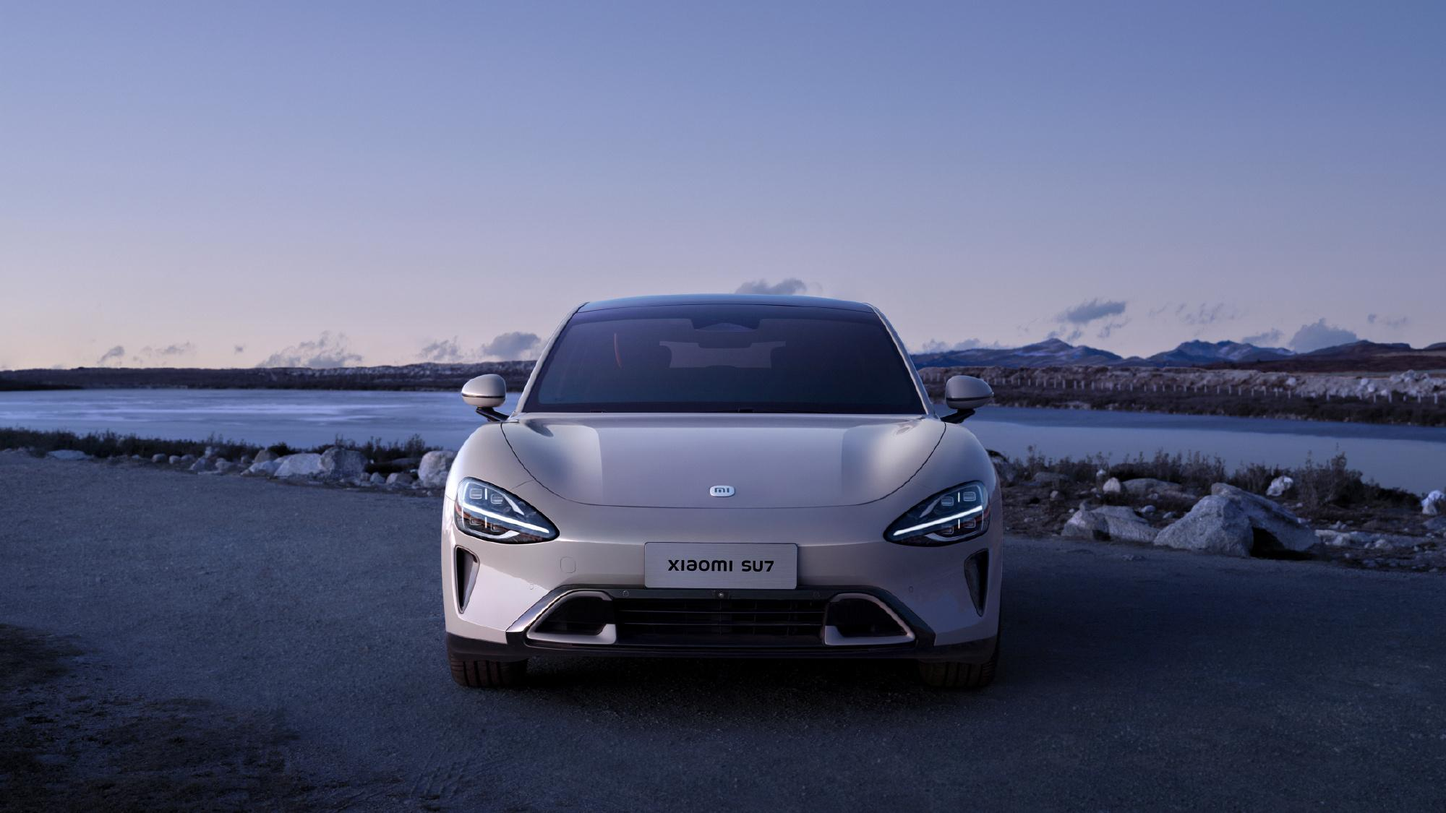XIAOMI: (709, 483, 737, 497)
